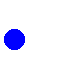circle: (4, 29, 24, 49)
